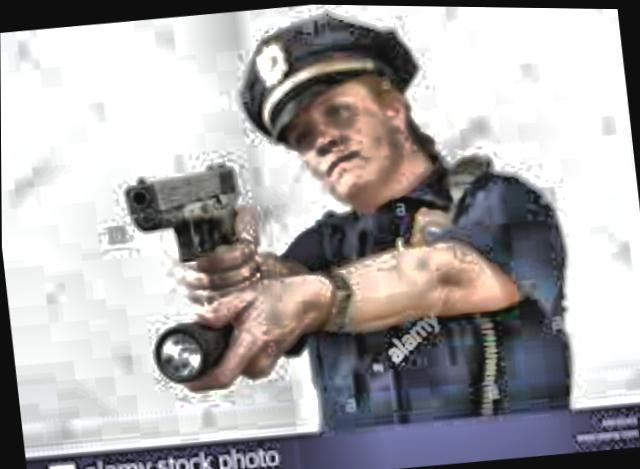pistol: (116, 151, 247, 272)
